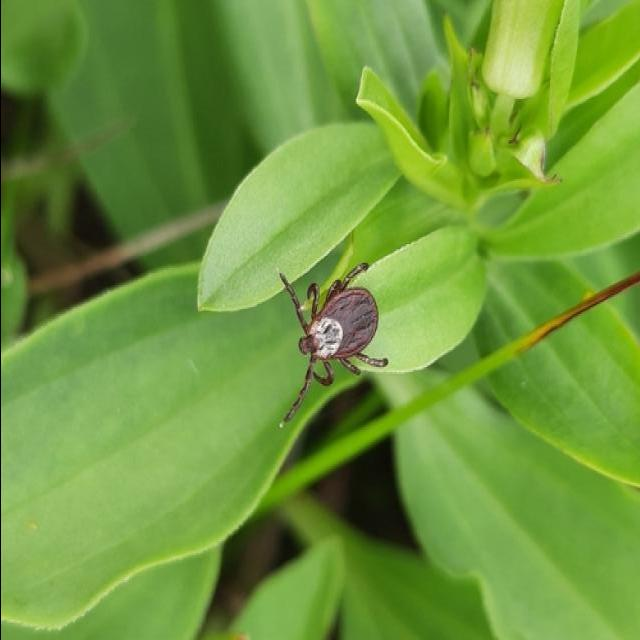Dermacentor Reticulatus-F: (278, 261, 388, 428)
